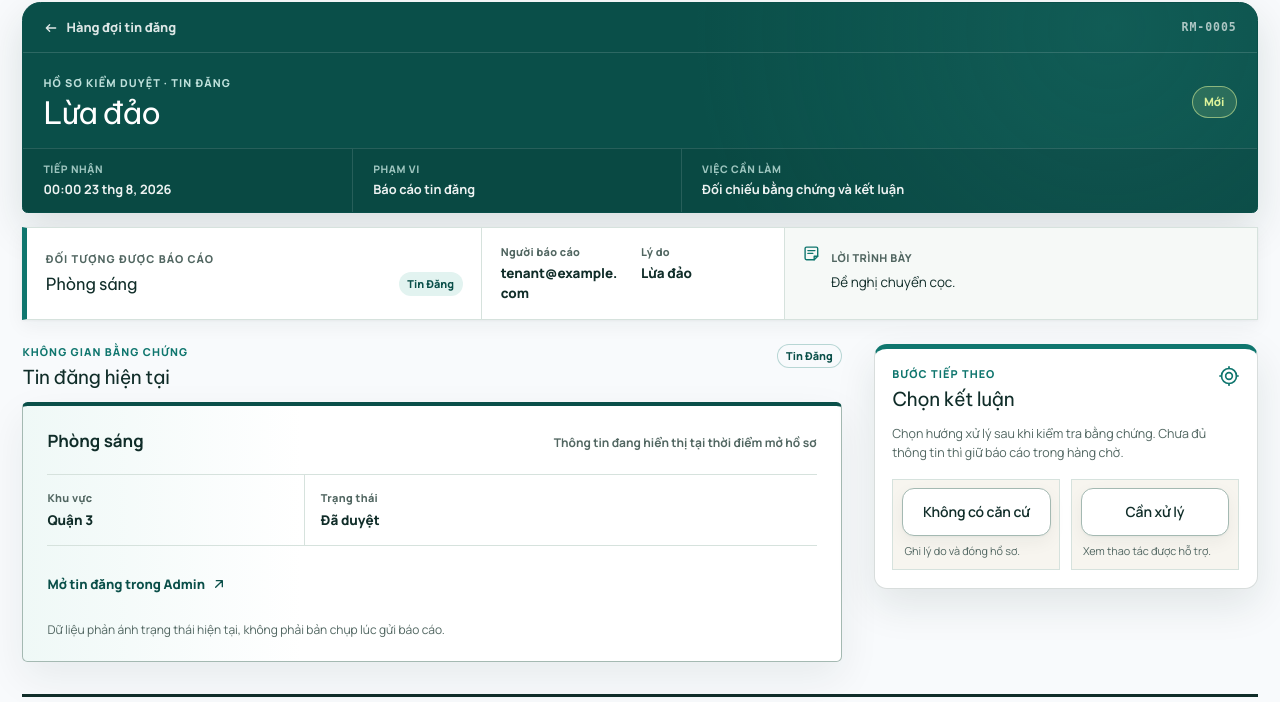
Test: AdminReportDetail › resolves an open report directly after an explicit conclusion
This screenshot has width=1280, height=702.
Expected: the heading "Lừa đảo" is shown, [43,93,160,132]
Expected: the heading "Tin đăng hiện tại" is shown, [22,365,188,389]
Click the button "Cần xử lý" at [1155, 512], box [1081,488,1229,536]
(page scrolled)
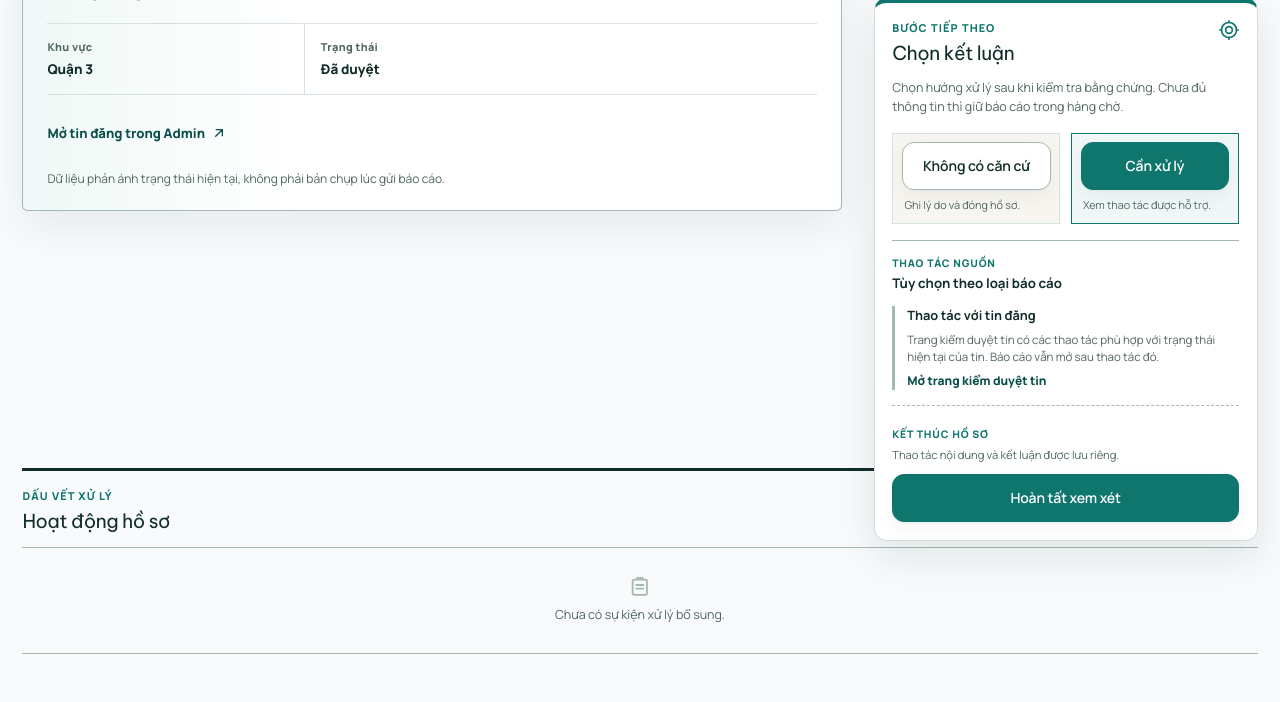
Click the button "Hoàn tất xem xét" at [1066, 498], box [892,474,1239,522]
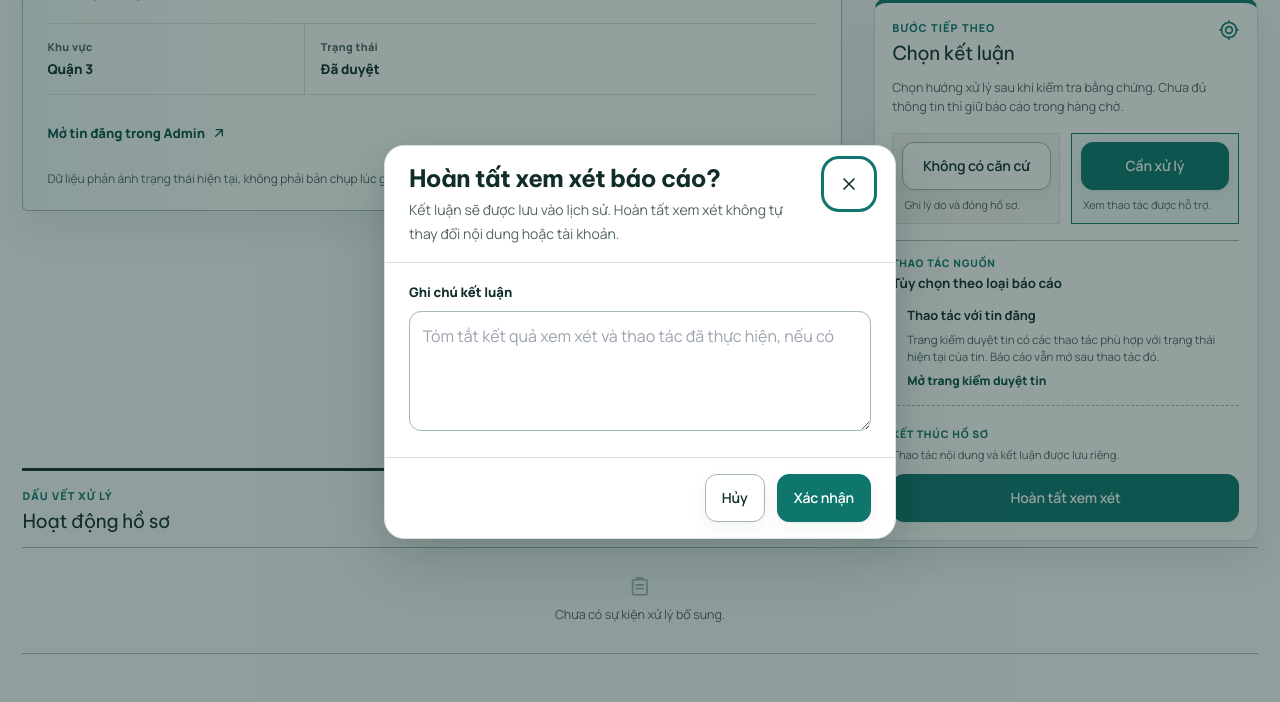
Expected: the dialog "Hoàn tất xem xét báo cáo?" is shown, [384,145,896,539]
Type "Đã xem xét bằng chứng." into the text box labelled "Ghi chú kết luận" at [640, 371], box [409,311,871,431]
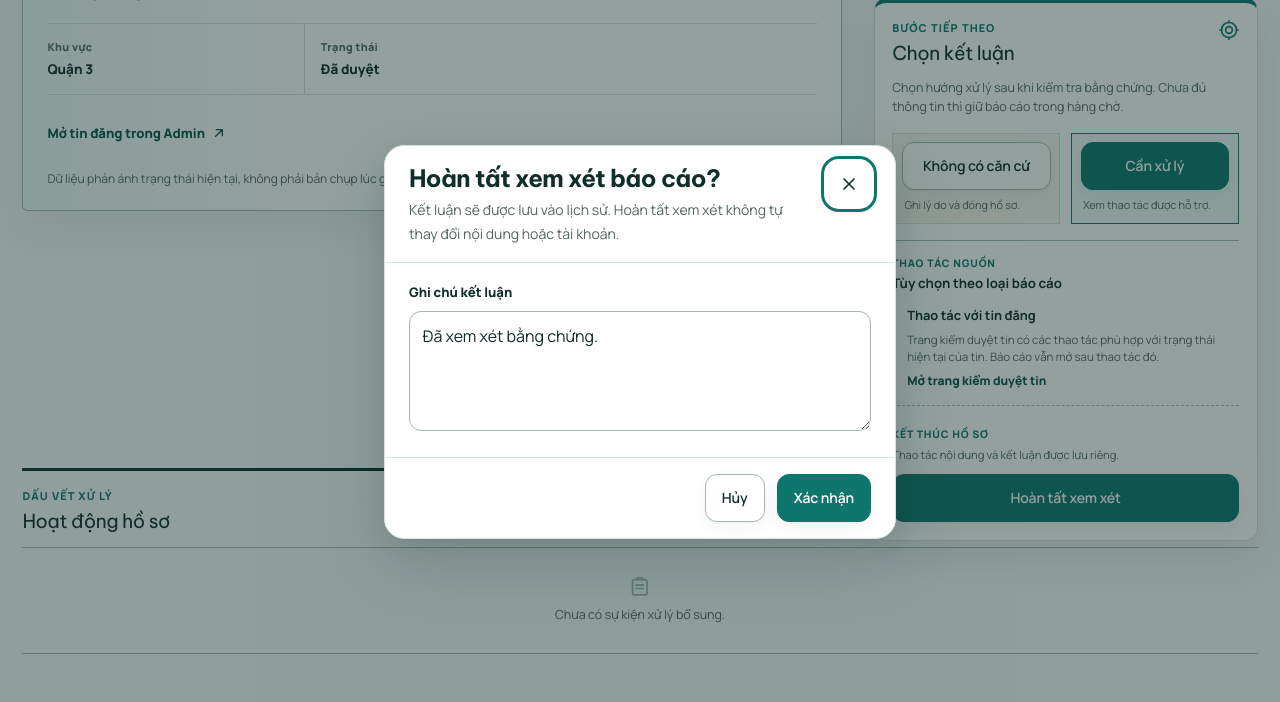
Click the button "Xác nhận" at [824, 498], box [777,474,871,522]
(page scrolled)
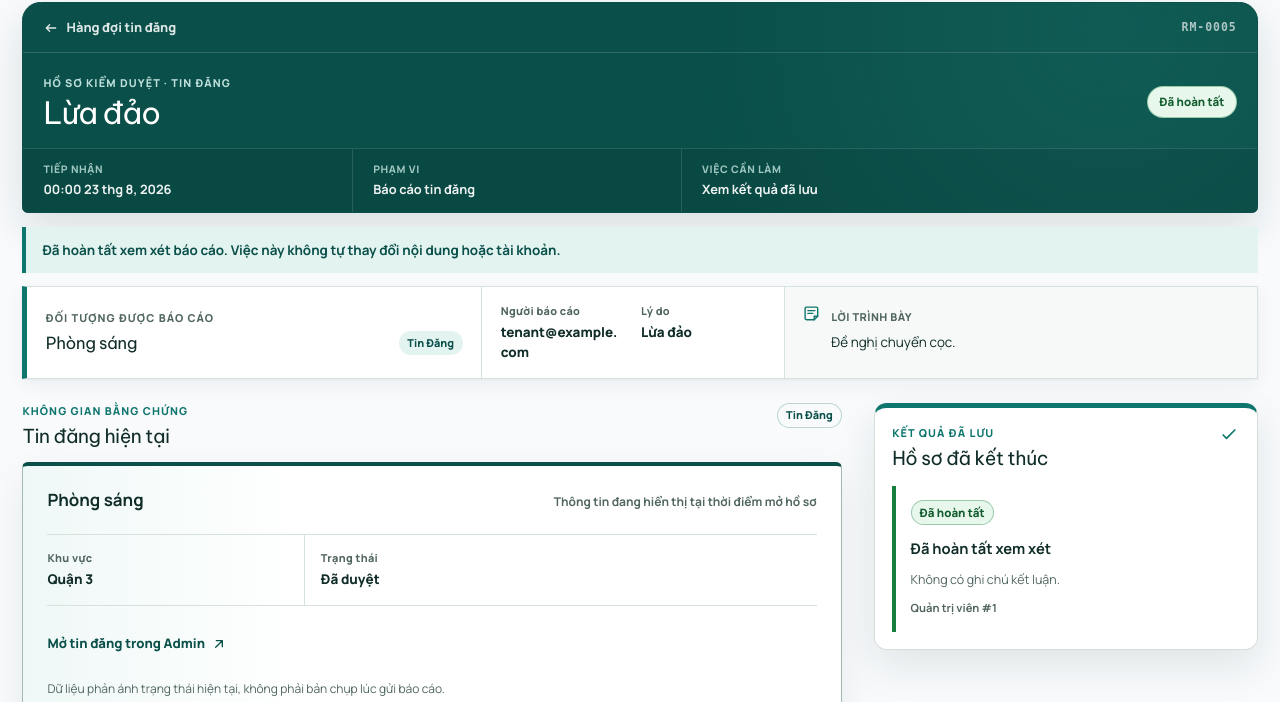
Expected: the message shows "Đã hoàn tất xem xét báo cáo", [42,241,560,259]
